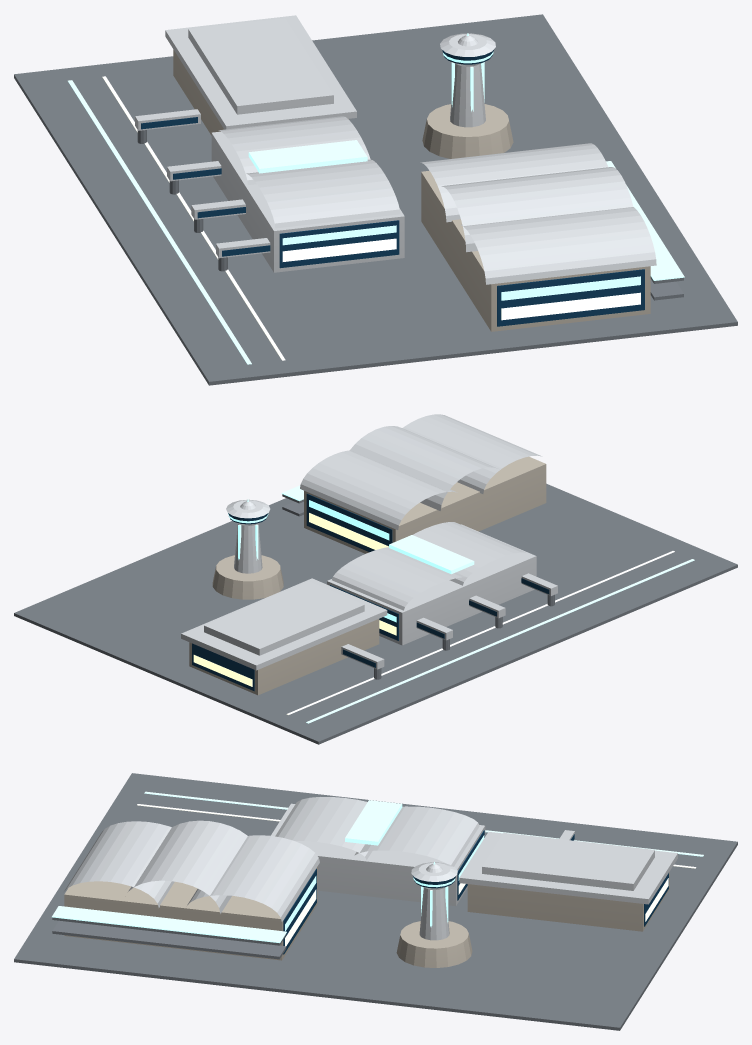
File: tan_son_nhat_terminals_t1_t2_t3.glb
3 renders of one model, top to bottom at view 1: azimuth 30°, elevation 25°; view 2: azimuth 150°, elevation 25°; view 3: azimuth 270°, elevation 25°, orthographic. The views are drawn at different scales.
Parts seen in each view (by area): view 1: tan_son_nhat_terminals_t1_t2_t3; view 2: tan_son_nhat_terminals_t1_t2_t3; view 3: tan_son_nhat_terminals_t1_t2_t3.
Part boxes in pixels (left/top/right/bottom): tan_son_nhat_terminals_t1_t2_t3: left=14, top=14, right=737, bottom=385; tan_son_nhat_terminals_t1_t2_t3: left=14, top=414, right=737, bottom=744; tan_son_nhat_terminals_t1_t2_t3: left=14, top=773, right=737, bottom=1030.
Bounding box in the file's own units: 246 × 42 × 295.
